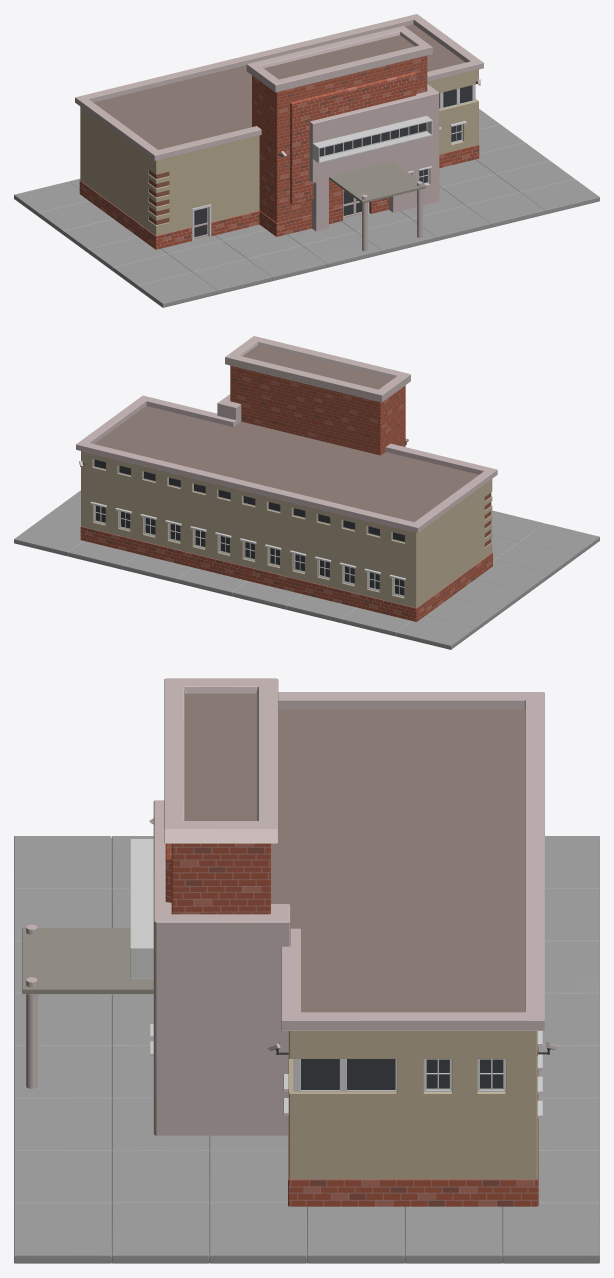
File: Station.fbx
3 renders of one model, top to bottom at view 1: azimuth 30°, elevation 25°; view 2: azimuth 150°, elevation 25°; view 3: azimuth 270°, elevation 25°, orthographic. The views are drawn at different scales.
Visible parts, largest first — view 1: node_id83; view 2: node_id83; view 3: node_id83.
Boxes of the visible parts, box(x1,y1,x2,y2) form: node_id83: box(14, 14, 599, 307); node_id83: box(14, 336, 599, 649); node_id83: box(14, 678, 599, 1263).
Bounding box in the file's own units: 0.512 × 0.177 × 0.3022.
1 material, 1 textured.
